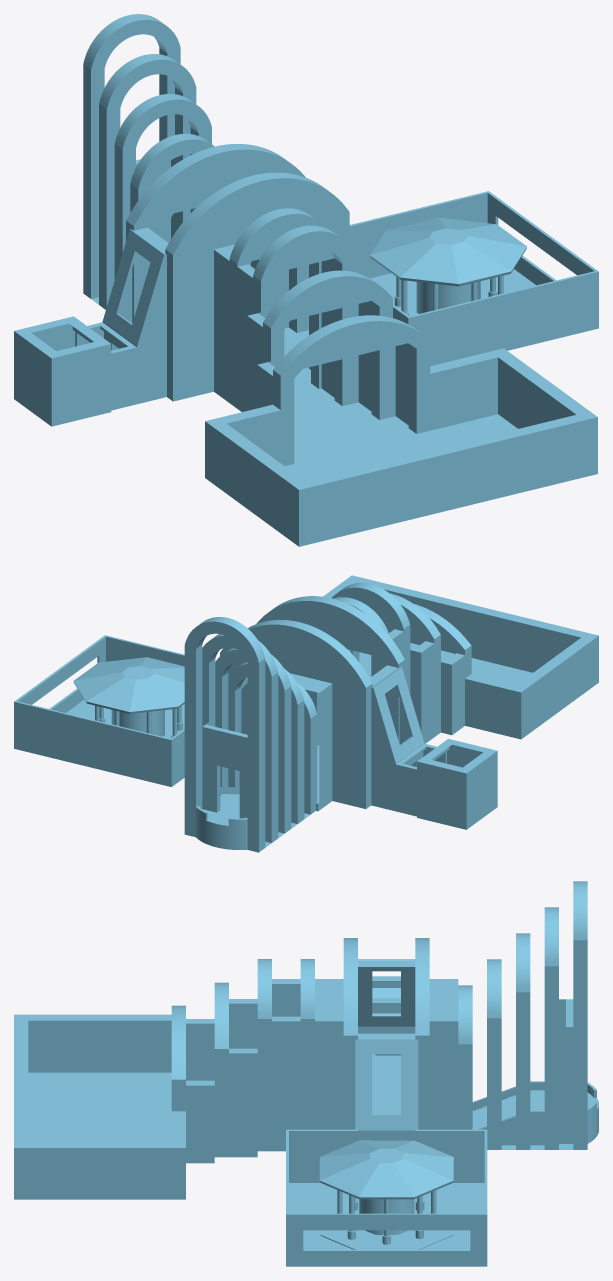
The model's file is Level 2.fbx.
3 renders of one model, top to bottom at view 1: azimuth 30°, elevation 25°; view 2: azimuth 150°, elevation 25°; view 3: azimuth 270°, elevation 25°, orthographic. The views are drawn at different scales.
Parts seen in each view (by area): view 1: Model; view 2: Model; view 3: Model.
Boxes of the visible parts, left/top/right/bottom form: Model: left=14, top=14, right=598, bottom=546; Model: left=14, top=575, right=598, bottom=852; Model: left=14, top=881, right=598, bottom=1266.
Size of the model in its own units: 2258 by 1128 by 2448.
